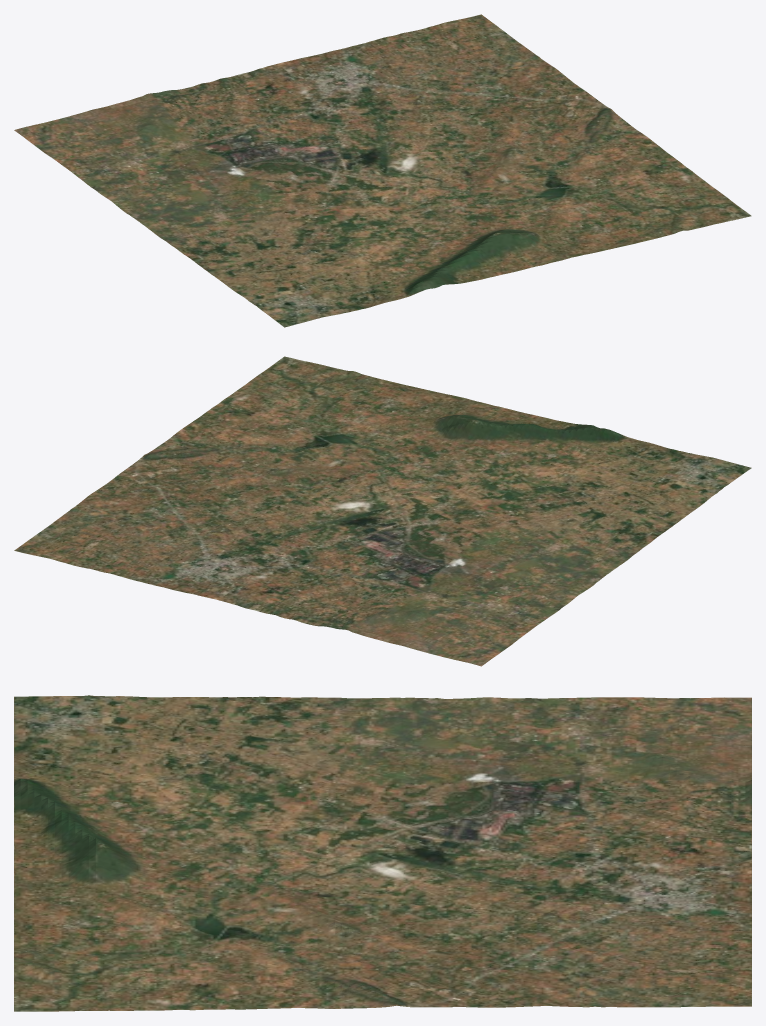
3 renders of one model, top to bottom at view 1: azimuth 30°, elevation 25°; view 2: azimuth 150°, elevation 25°; view 3: azimuth 270°, elevation 25°, orthographic. The views are drawn at different scales.
Parts seen in each view (by area): view 1: geometry_0; view 2: geometry_0; view 3: geometry_0.
Boxes of the visible parts, <box> form: geometry_0: <box>14,14,751,327</box>; geometry_0: <box>14,356,751,666</box>; geometry_0: <box>14,695,751,1011</box>.
Size of the model in its own units: 9989 by 275 by 10010.
1 material, 1 textured.
